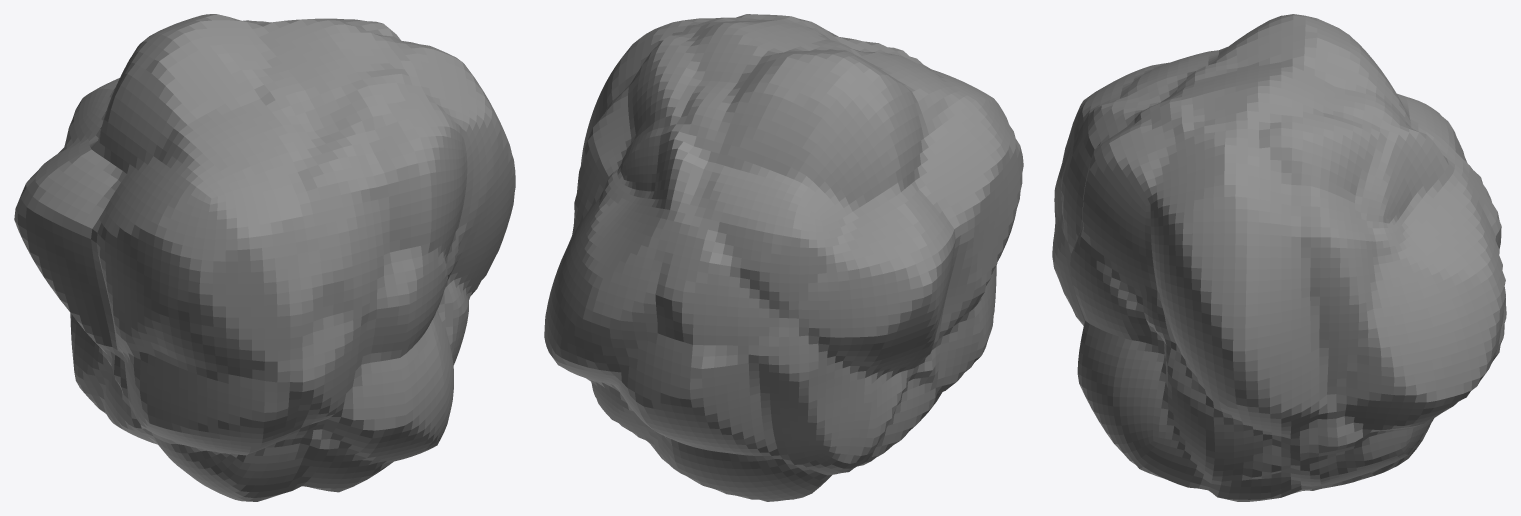
Rendered from stone5.fbx.
The picture shows the model from 3 angles, left to right: view 1: azimuth 30°, elevation 25°; view 2: azimuth 150°, elevation 25°; view 3: azimuth 270°, elevation 25°; orthographic projection. The views are drawn at different scales.
Visible parts, largest first — view 1: Cube.002; view 2: Cube.002; view 3: Cube.002.
Boxes of the visible parts, left/top/right/bottom form: Cube.002: left=14, top=14, right=515, bottom=501; Cube.002: left=544, top=14, right=1023, bottom=501; Cube.002: left=1052, top=14, right=1506, bottom=501.
Bounding box in the file's own units: 196 × 194 × 189.
1 material, 1 textured.
